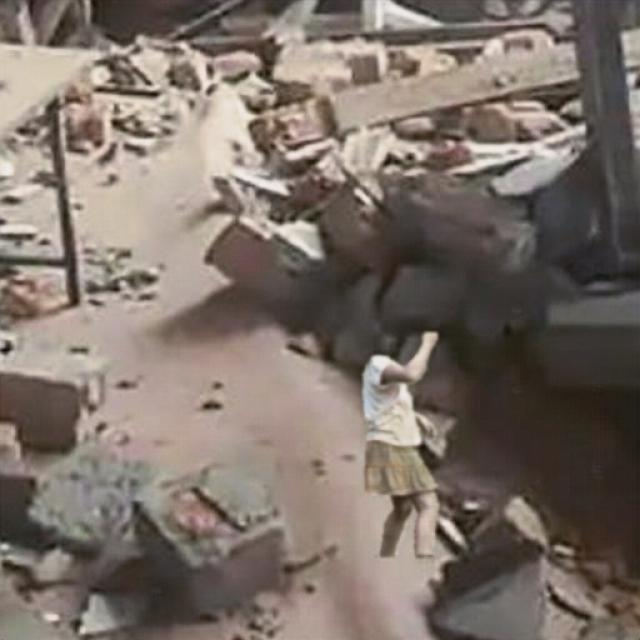Person in Rubble: (362, 332, 438, 556)
